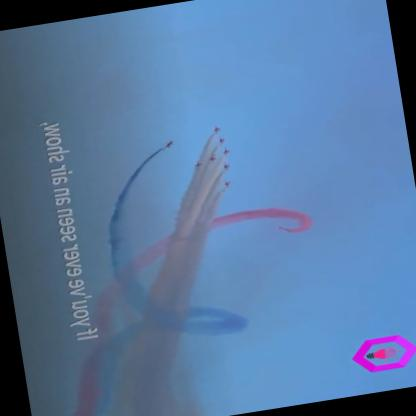plane: (216, 176, 240, 192), (159, 138, 178, 151), (213, 135, 228, 146), (219, 146, 233, 157), (219, 161, 231, 173), (204, 153, 218, 163), (211, 125, 224, 133), (193, 160, 203, 170)
